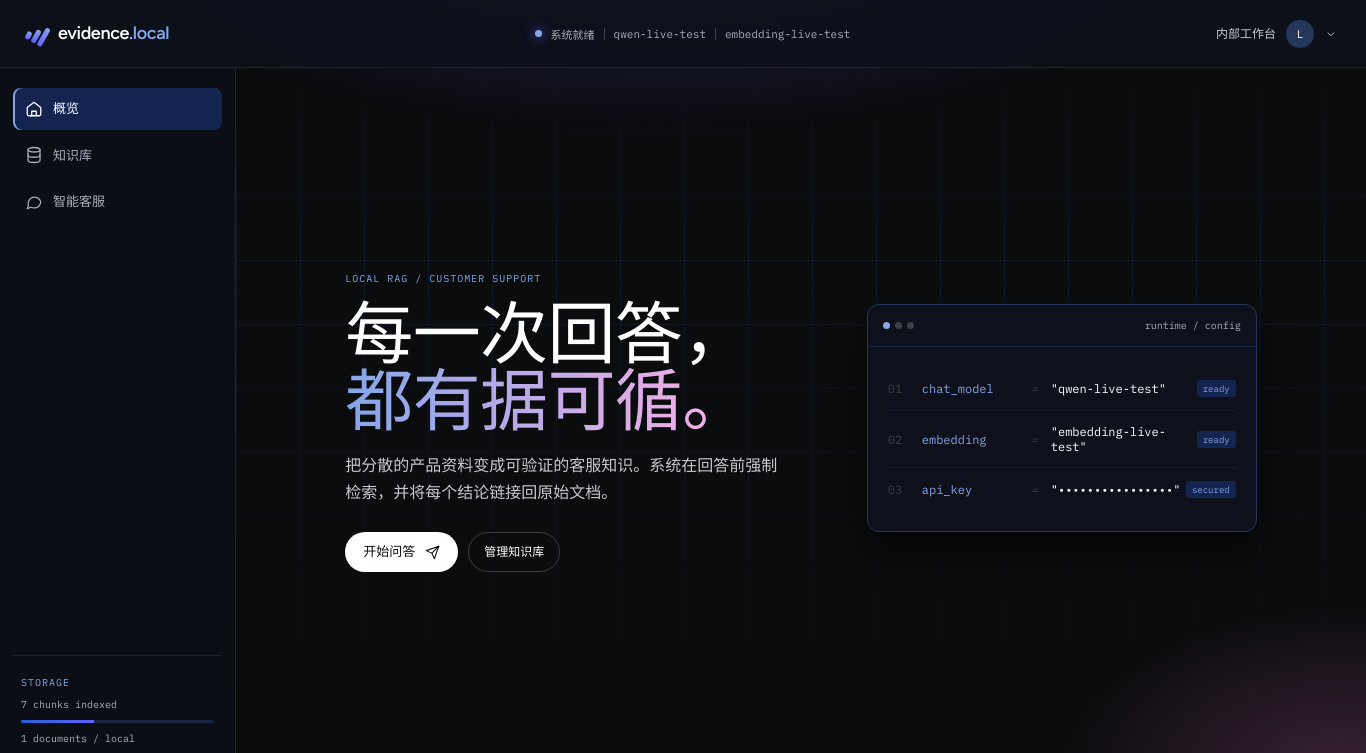
Scenario: 应用外壳与知识库页面 › 按 SSE 事件顺序展示回答、过程与证据，并可新建会话
The image size is (1366, 753).
expect the text "\"qwen-live-test\"" is shown: met, box [1051,381,1166,396]
Click the button "智能客服" at [118, 202], box [13,181,222,222]
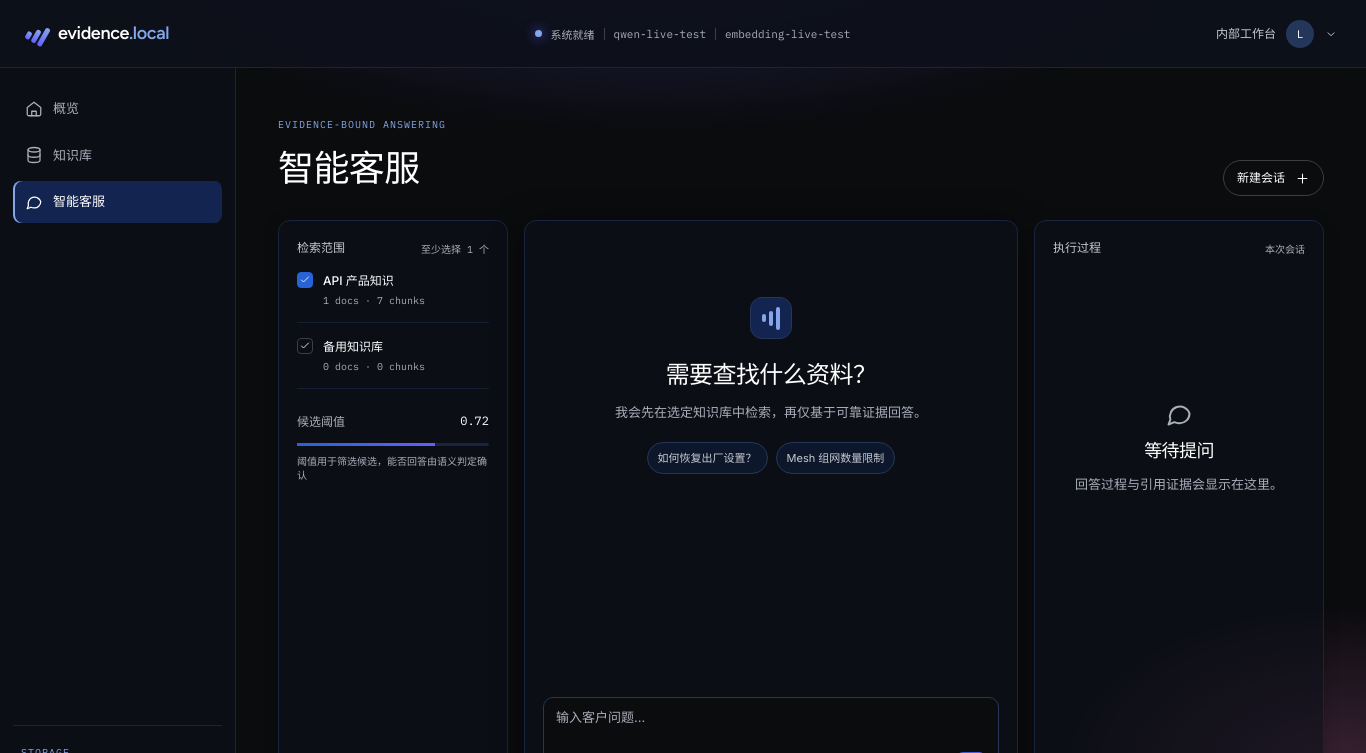
Type "如何恢复出厂？" into the text box labelled "客户问题" at [771, 727], box [556,708,986,746]
(page scrolled)
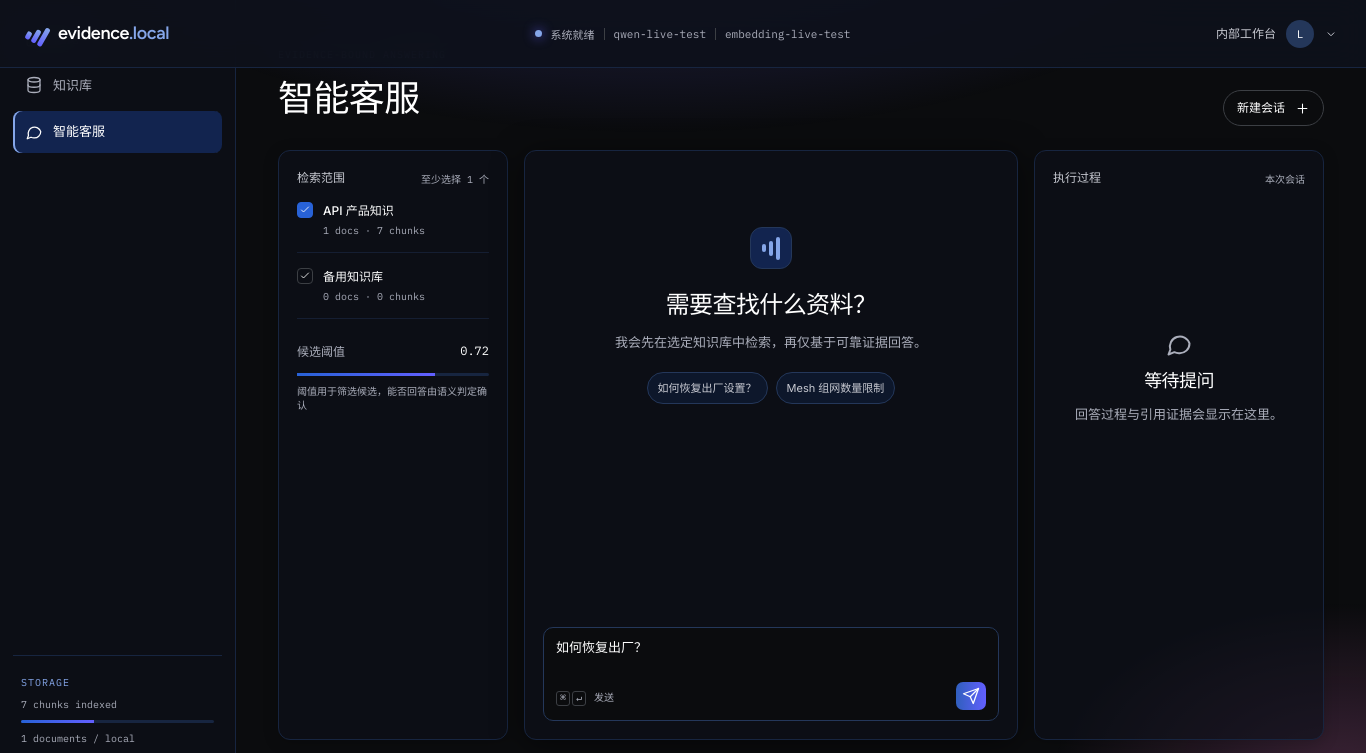
Click the button named "发送问题" at [971, 696], box [956,682,986,710]
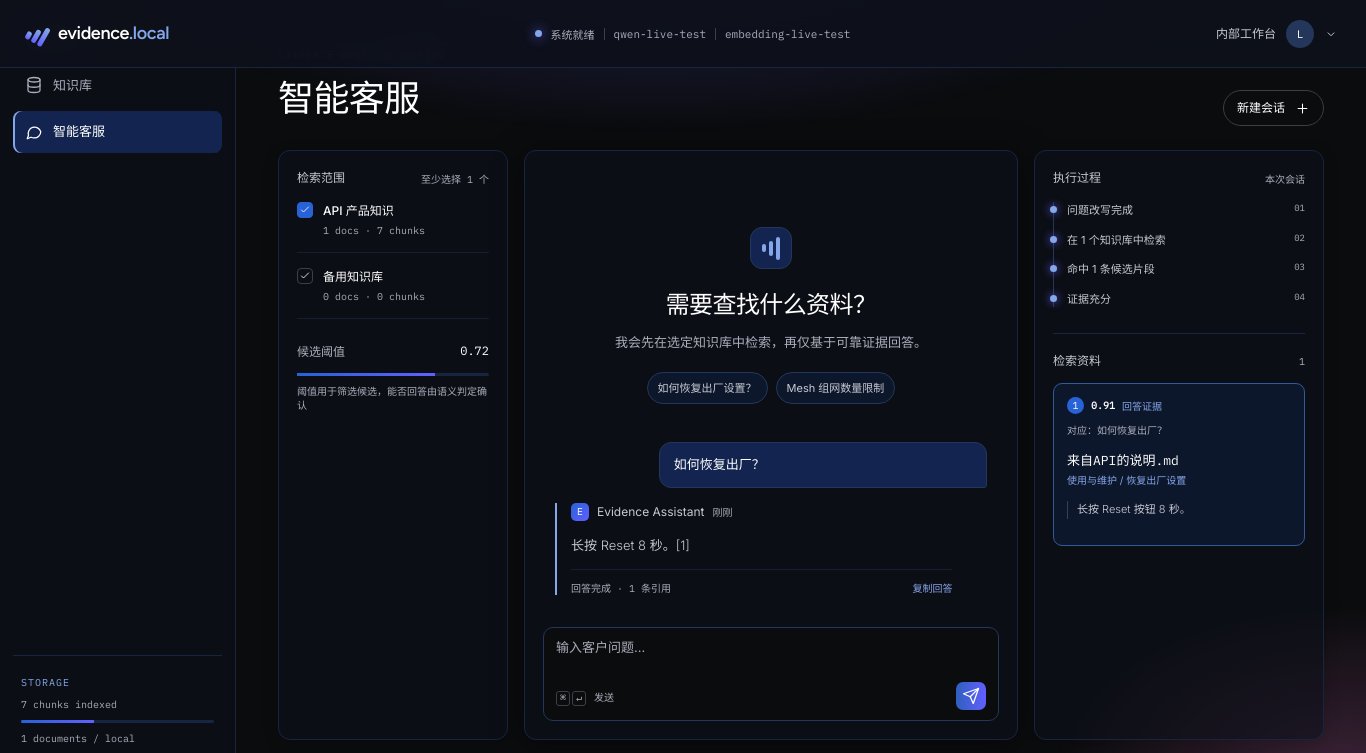
expect the text "长按 Reset 8 秒。[1]" is shown: met, box [571,537,690,553]
expect the text "问题改写完成" is shown: met, box [1067,203,1133,217]
expect the text "证据充分" is shown: met, box [1067,292,1111,306]
Click the button "新建会话" at [1274, 108], box [1223,90,1324,126]
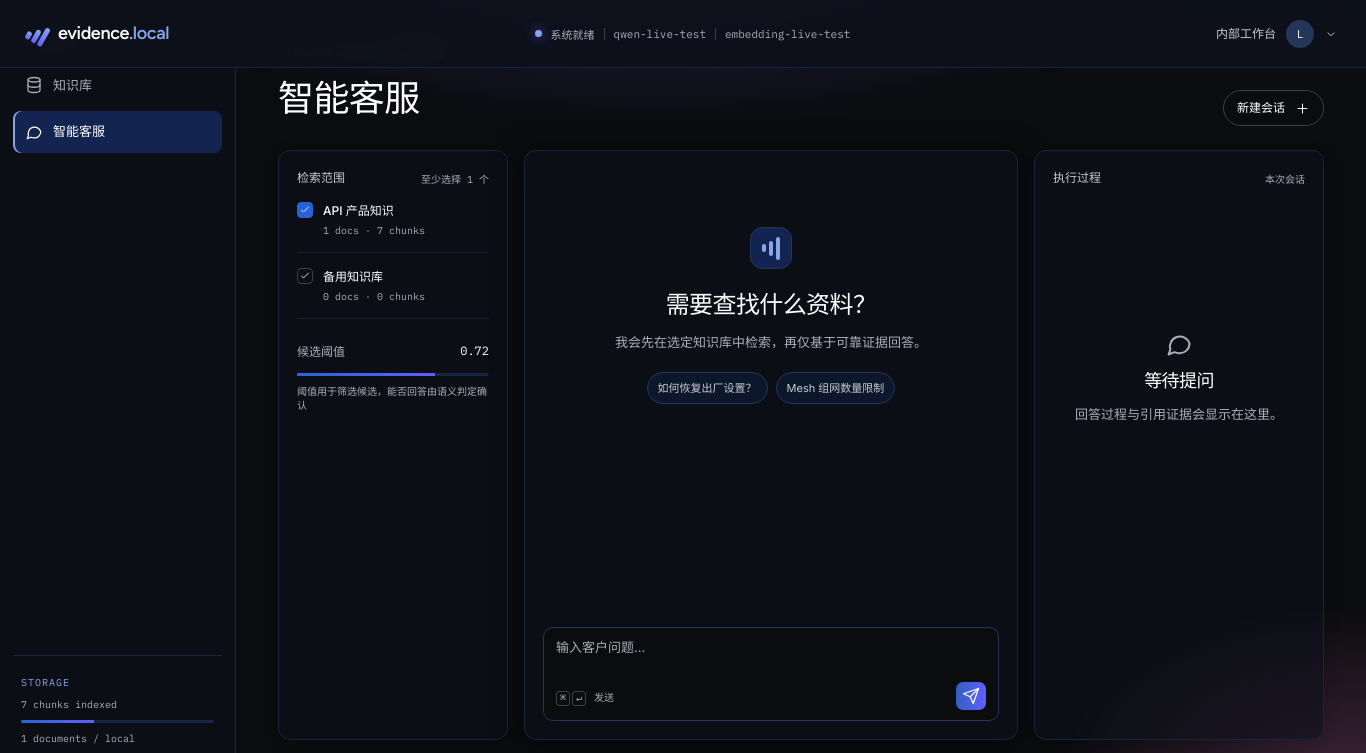
expect the text "长按 Reset 8 秒。[1]" is gone: met
expect the heading "等待提问" is shown: met, box [1144,368,1214,395]
